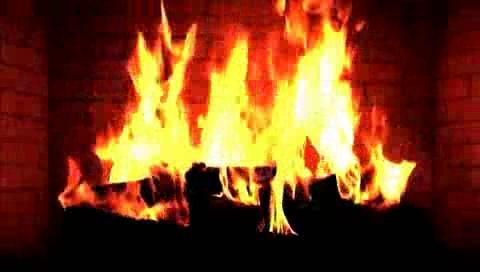fire: (131, 46, 370, 228)
